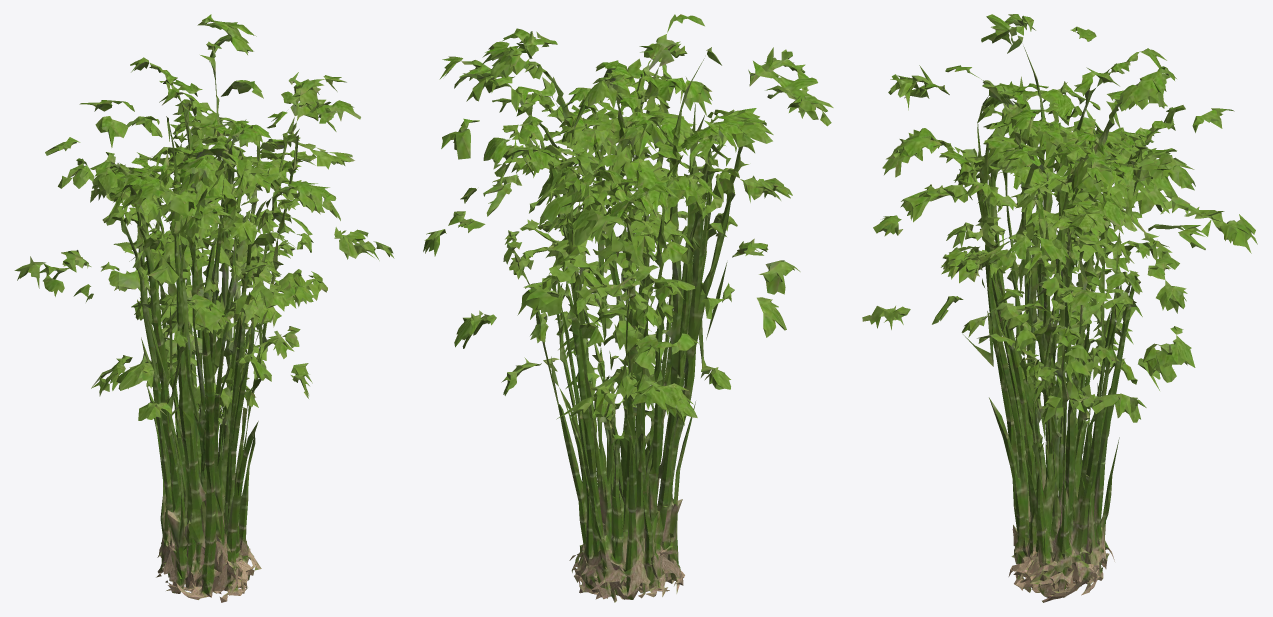
File: e4bamboo.glb
The picture shows the model from 3 angles, left to right: view 1: azimuth 30°, elevation 25°; view 2: azimuth 150°, elevation 25°; view 3: azimuth 270°, elevation 25°; orthographic projection. The views are drawn at different scales.
Visible parts, largest first — view 1: output_unwrapped; view 2: output_unwrapped; view 3: output_unwrapped.
Boxes of the visible parts, x1,y1,x2,y2 form: output_unwrapped: [14, 14, 394, 602]; output_unwrapped: [423, 14, 833, 602]; output_unwrapped: [862, 14, 1257, 602].
Bounding box in the file's own units: 0.6643 × 1 × 0.6516.
Materials: 1 (1 with a texture image).
